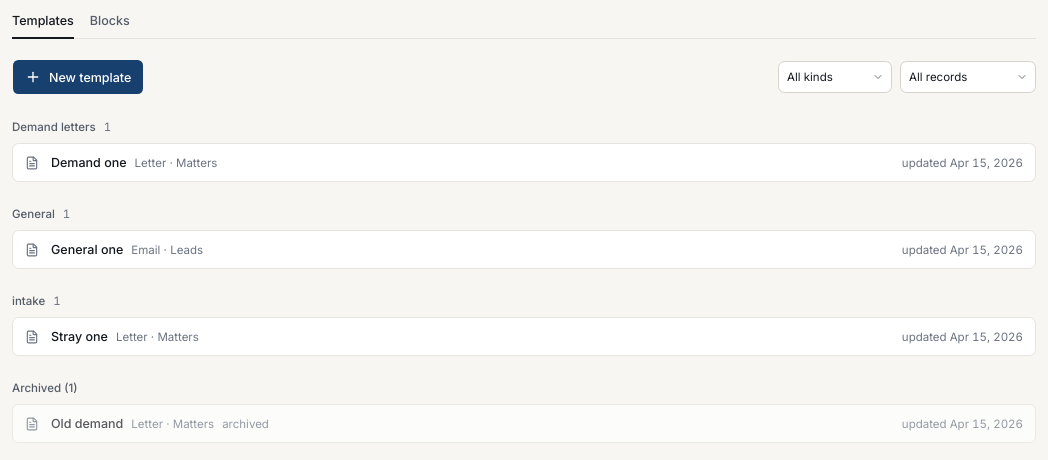
Test case: TemplateLibrary › the Blocks tab lists blocks linking to the block editor
Step 1. Click the tab "Blocks" → point(110, 26), box [90,12,130,39]
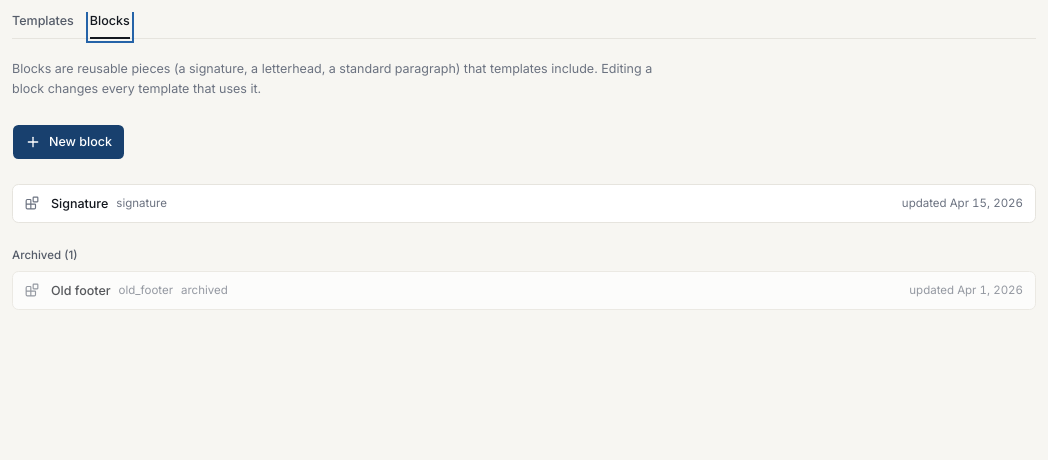
Expected: the heading "Archived (1)" is shown, [12,248,77,262]
Expected: the link "Demand one" is gone
